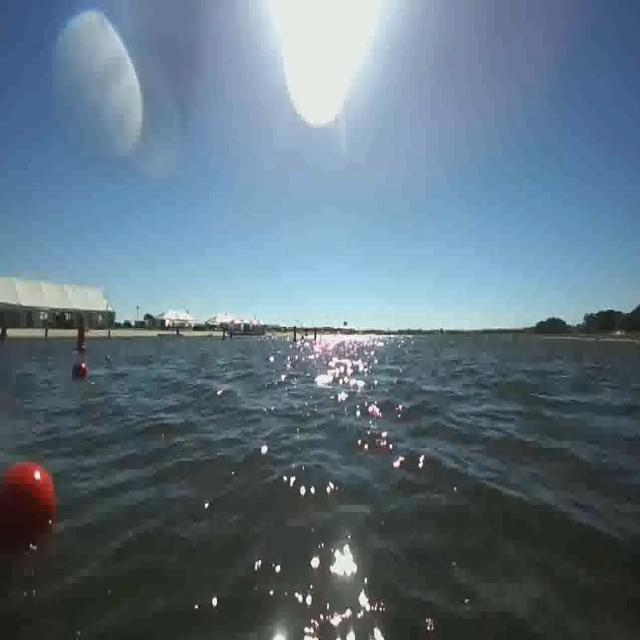red-buoy: (1, 462, 54, 537), (72, 361, 88, 379)
